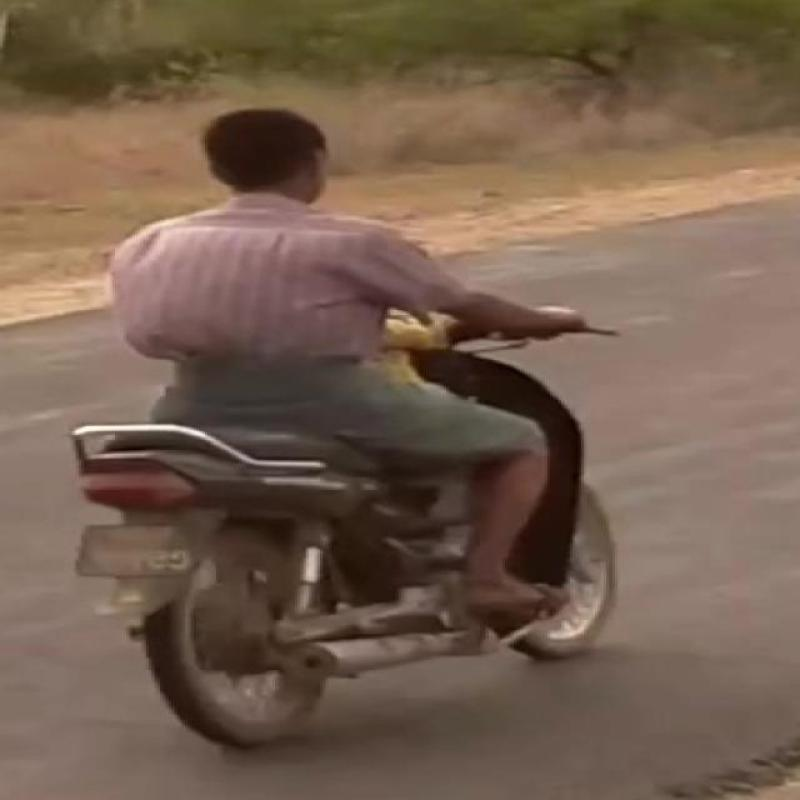nohelmet: (199, 109, 380, 223)
